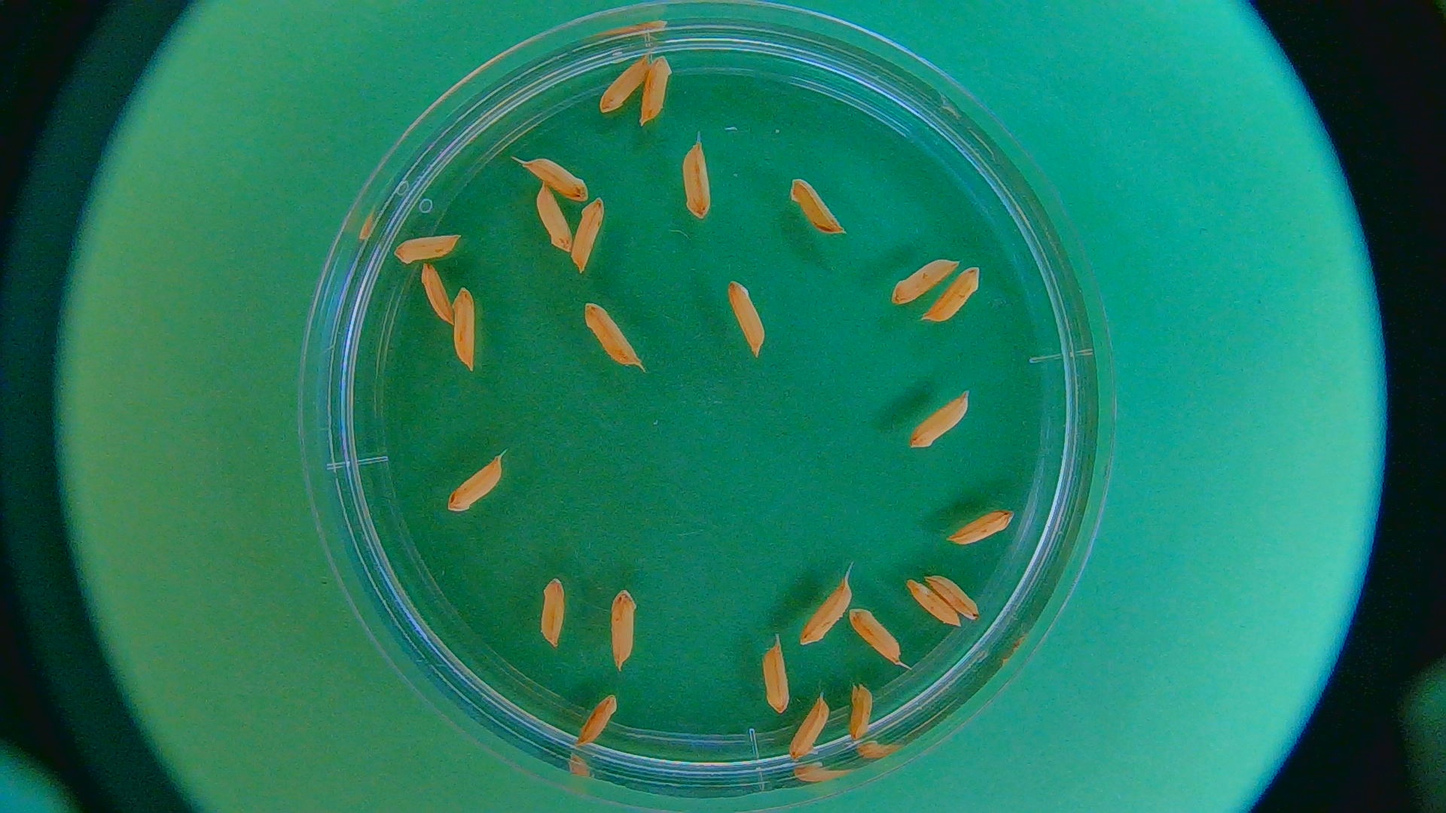no: (584, 303, 642, 367), (909, 392, 973, 449), (890, 257, 961, 308), (444, 453, 505, 512), (799, 581, 853, 647), (789, 176, 845, 236), (569, 197, 611, 276), (725, 279, 767, 355), (923, 266, 980, 321), (847, 607, 901, 665), (524, 155, 589, 201), (532, 183, 574, 254), (905, 579, 966, 626), (926, 572, 984, 620), (600, 56, 649, 112), (789, 696, 831, 760), (638, 54, 673, 126), (682, 142, 714, 219), (948, 509, 1012, 547), (606, 588, 636, 666), (537, 577, 569, 648), (576, 694, 618, 748), (761, 640, 791, 712), (419, 256, 452, 321), (392, 233, 462, 263), (453, 285, 476, 370), (848, 681, 875, 736)
